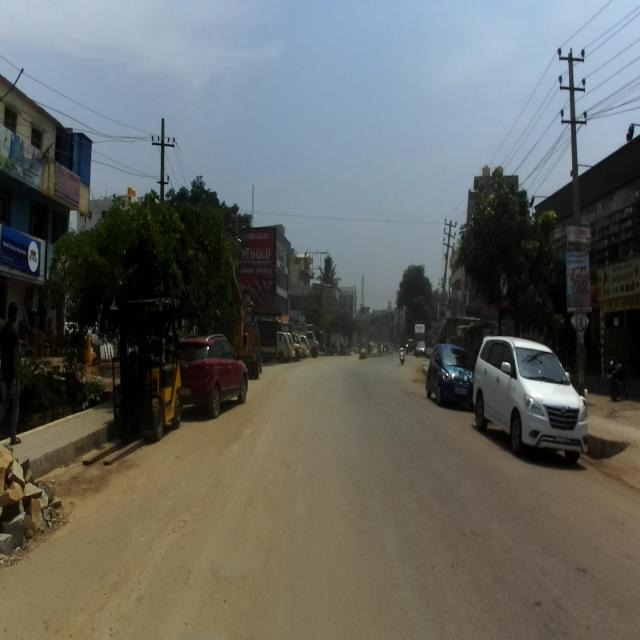Car_Hyundai: (175, 332, 248, 417), (426, 342, 475, 405)
Car_Toyota: (472, 334, 589, 462)
truck: (254, 319, 292, 363)
